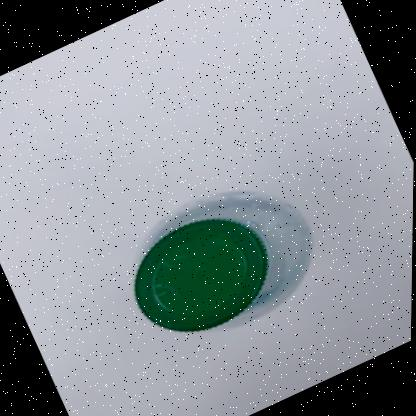Plastic: (135, 192, 314, 332)
